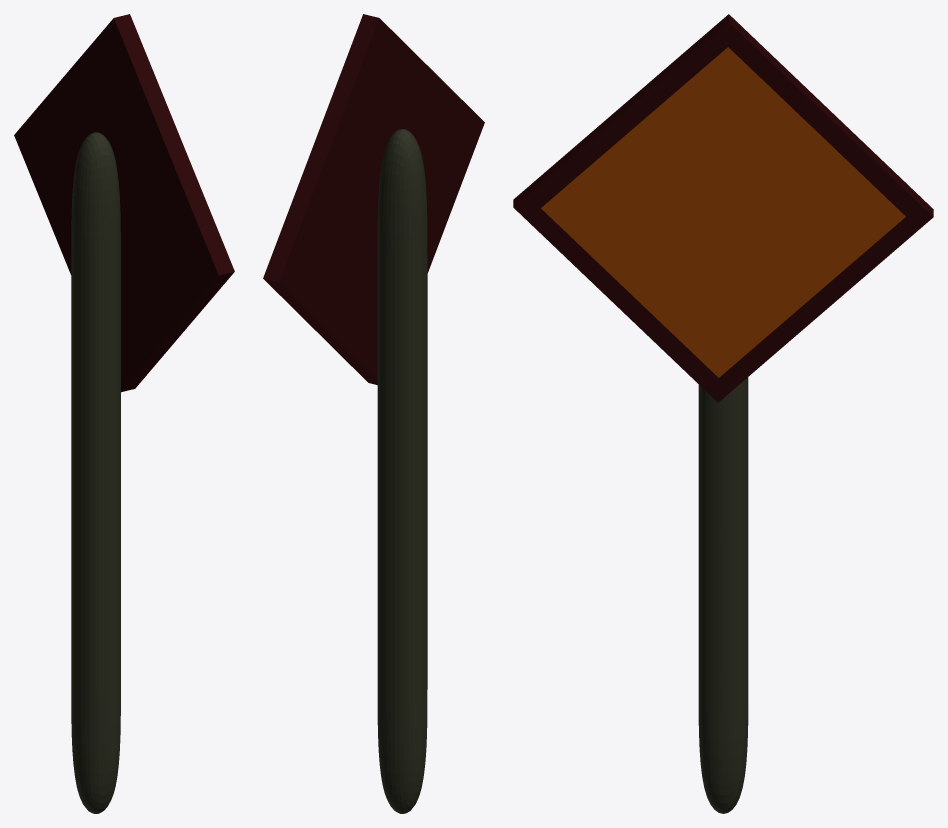
File: Sign.obj
3 views of the same model, side by side, from view 1: azimuth 30°, elevation 25°; view 2: azimuth 150°, elevation 25°; view 3: azimuth 270°, elevation 25° (orthographic). The views are drawn at different scales.
Parts seen in each view (by area): view 1: Куб, Cube; view 2: Куб, Cube; view 3: Куб.001, Куб, Cube.
Part boxes in pixels (x1,y1,x2,y2): Куб: (14, 14, 234, 392); Cube: (71, 132, 120, 813); Куб: (263, 14, 484, 384); Cube: (377, 129, 427, 813); Куб.001: (541, 47, 905, 377); Куб: (513, 14, 933, 402); Cube: (698, 377, 748, 813).
Bounding box in the file's own units: 0.3464 × 4.53 × 2.13.
